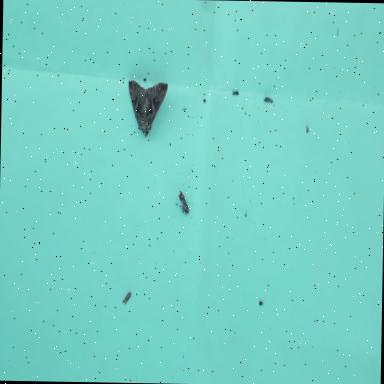abw: (128, 80, 168, 138)
pbw: (178, 191, 190, 216), (123, 293, 131, 304)
